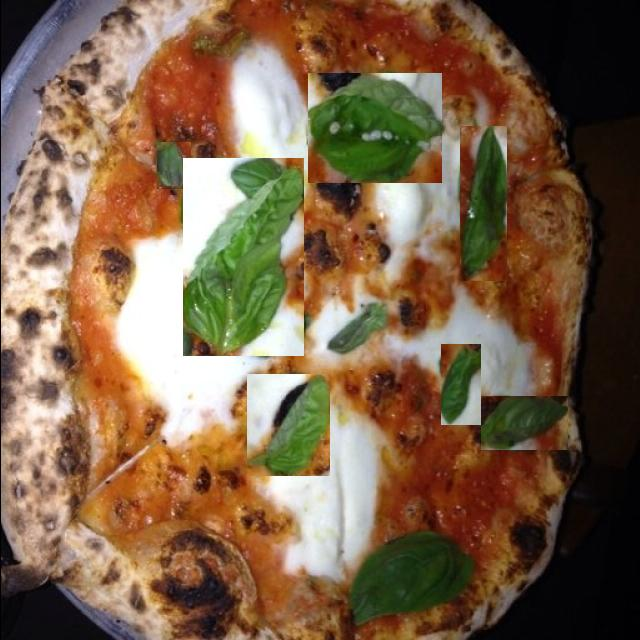basil: (182, 158, 303, 356), (307, 73, 441, 183), (348, 531, 474, 627), (246, 374, 329, 476), (459, 126, 506, 281), (480, 396, 567, 450), (440, 344, 480, 425), (326, 302, 387, 351), (156, 142, 190, 189)
pizza: (0, 0, 590, 640)
